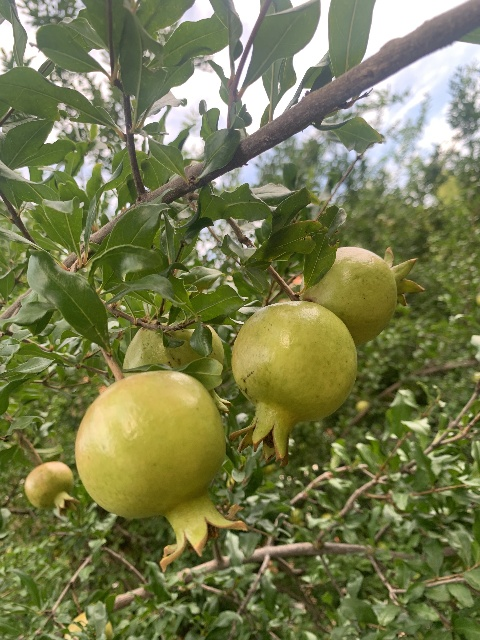mid-growth: (74, 370, 246, 572), (228, 300, 357, 465), (300, 246, 425, 345), (122, 313, 232, 414), (24, 461, 79, 516)
